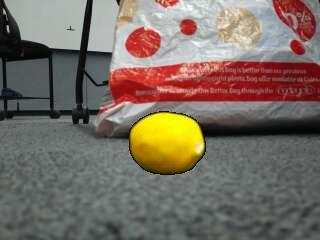lemon: (129, 113, 205, 174)
